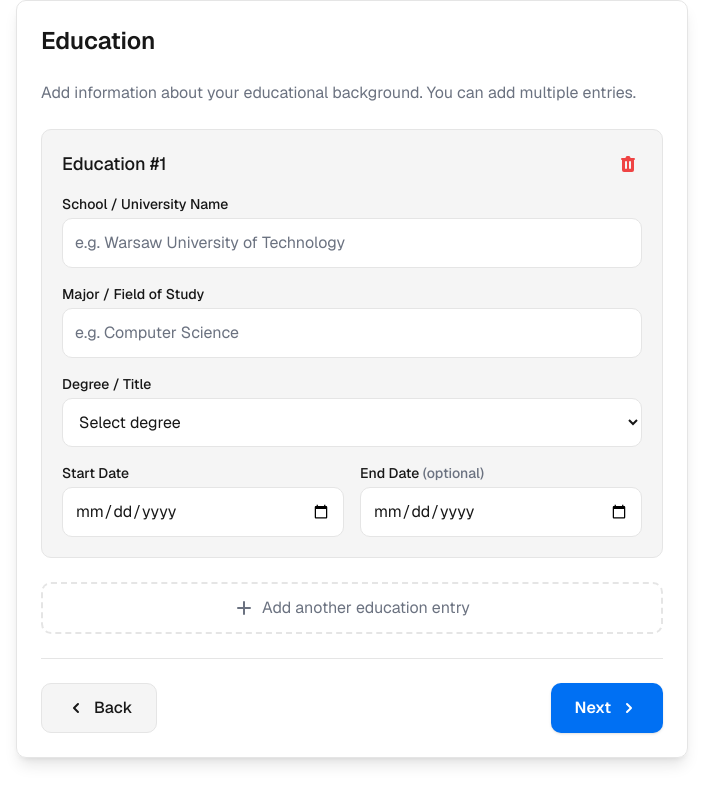
Test: EducationForm Component › Walidacja i przesyłanie (Submit) › powinien zgłosić błąd, jeśli data początkowa jest z przyszłości
The width and height of the screenshot is (705, 808).
Type "Politechnika" into the field with placeholder "e.g. Warsaw University of Technology" at {"x": 352, "y": 243}, box [62, 218, 642, 268]
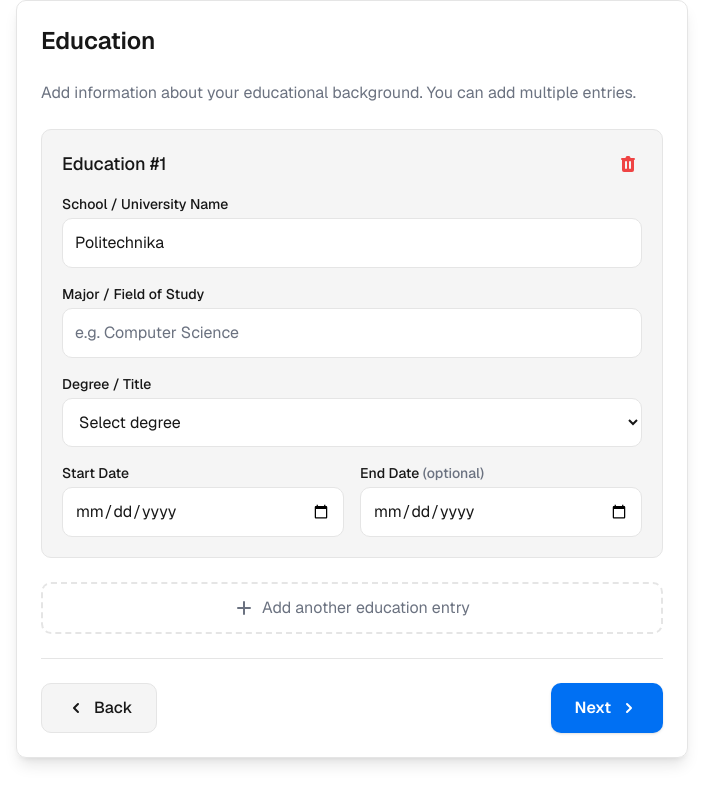
Type "Informatyka" into the field with placeholder "e.g. Computer Science" at {"x": 352, "y": 333}, box [62, 308, 642, 358]
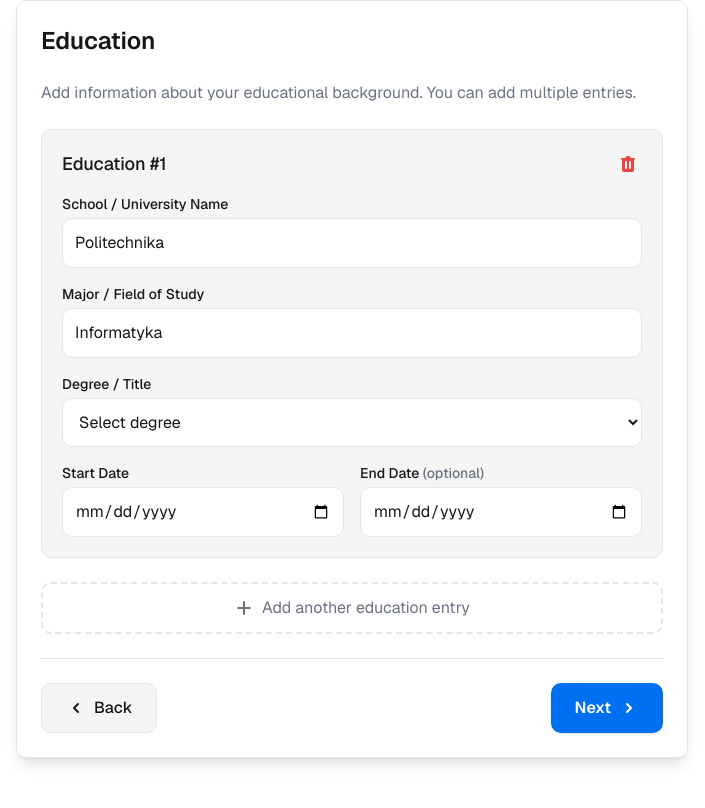
Select "Engineer's Degree" in the dropdown labelled "Degree / Title" at {"x": 352, "y": 422}, box [62, 398, 642, 447]
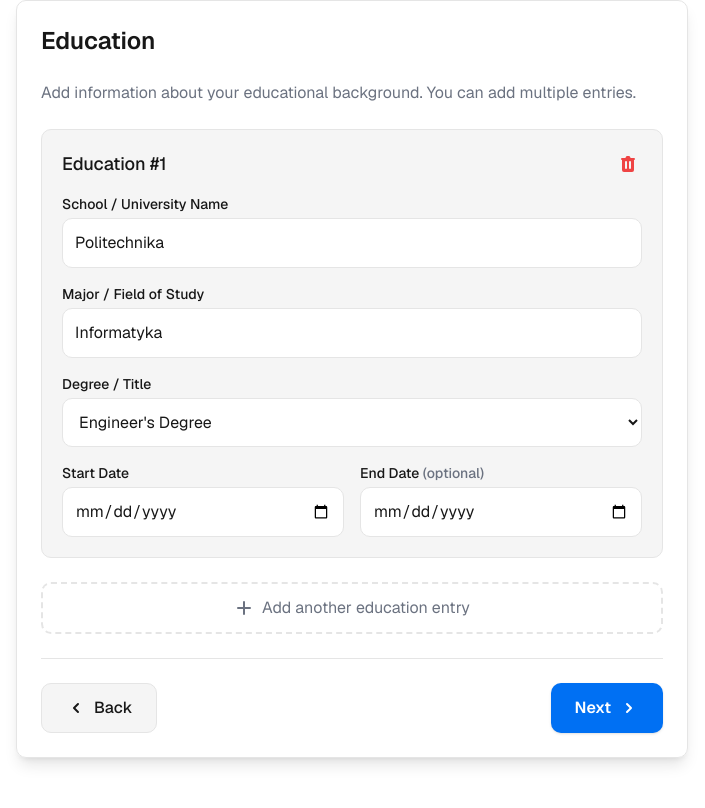
Type "2050-01-01" into the date field labelled "Start Date" at {"x": 203, "y": 512}, box [62, 487, 344, 537]
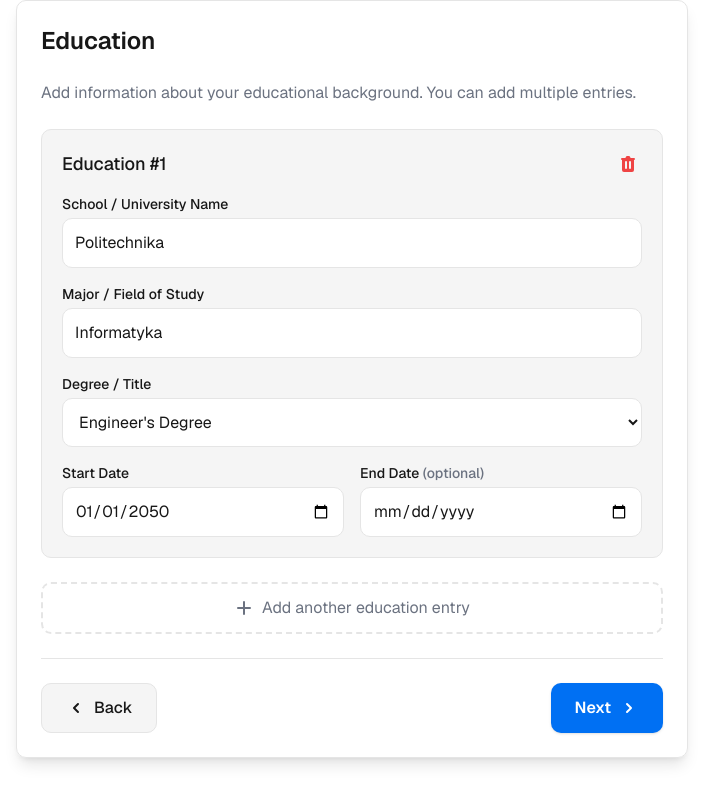
Click the button "Next" at {"x": 607, "y": 708}, box [551, 683, 663, 733]
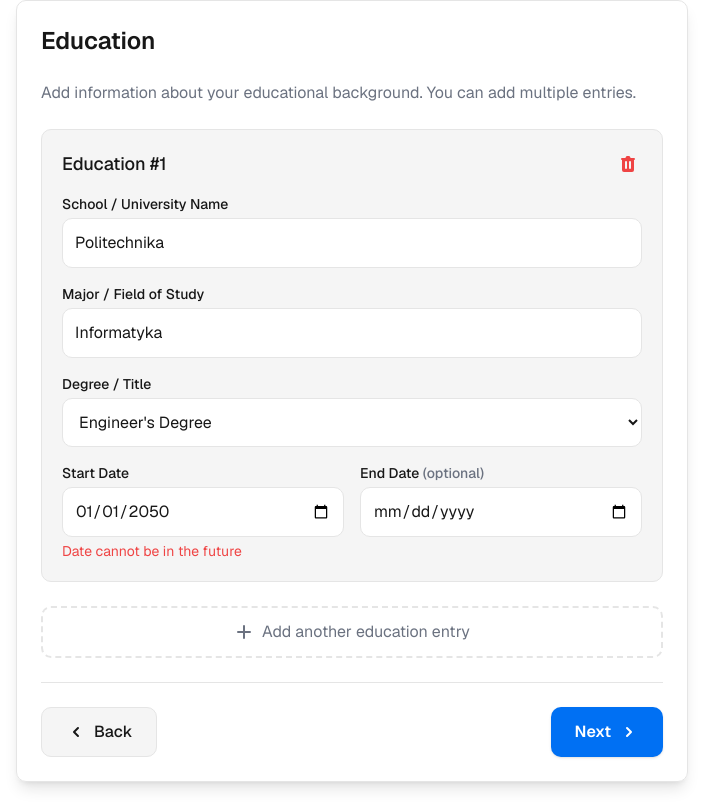
Expected: the text "Date cannot be in the future" is shown, [62, 542, 242, 560]
